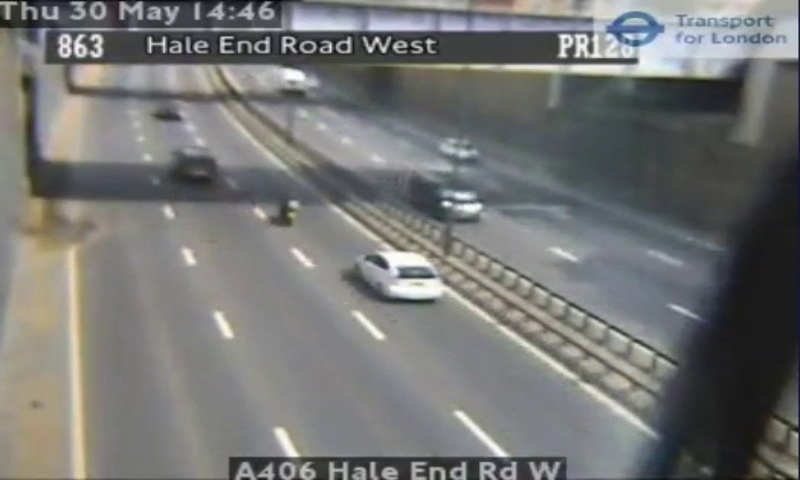car: (355, 252, 444, 300)
motorcycle: (277, 190, 300, 226)
